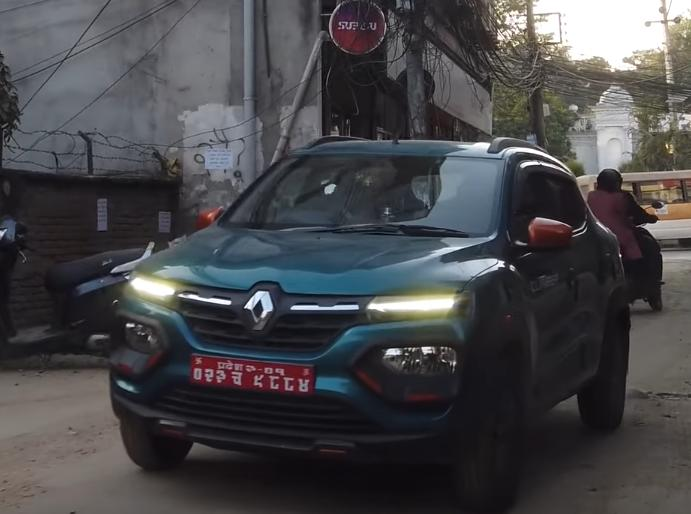car: (101, 124, 627, 506)
